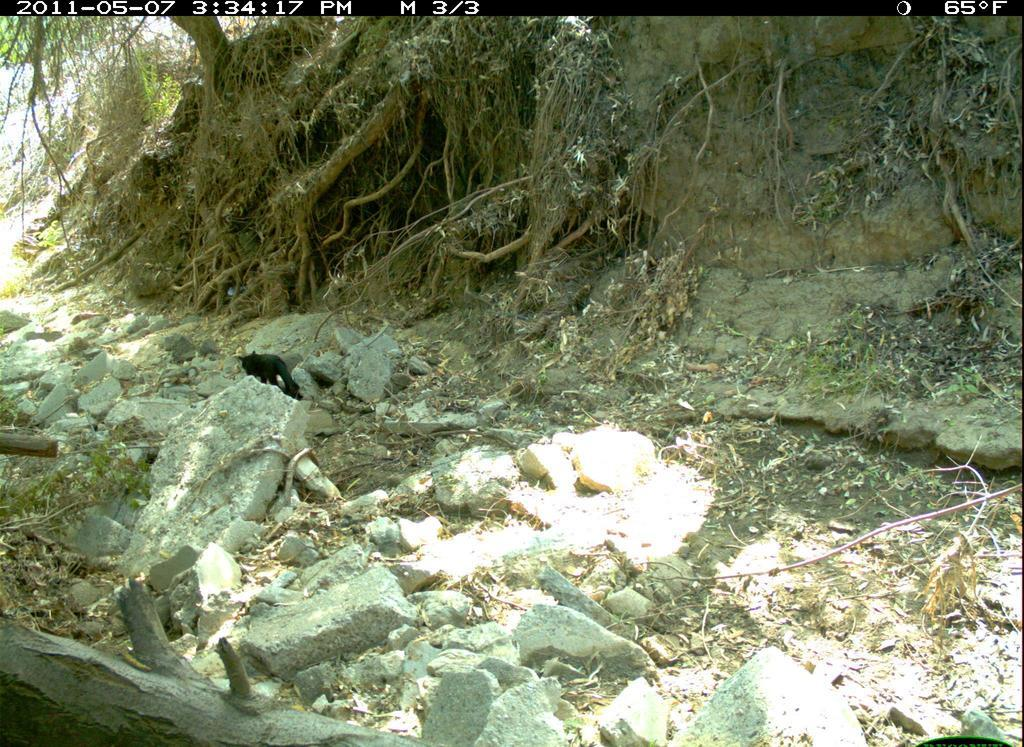cat: (233, 347, 318, 406)
